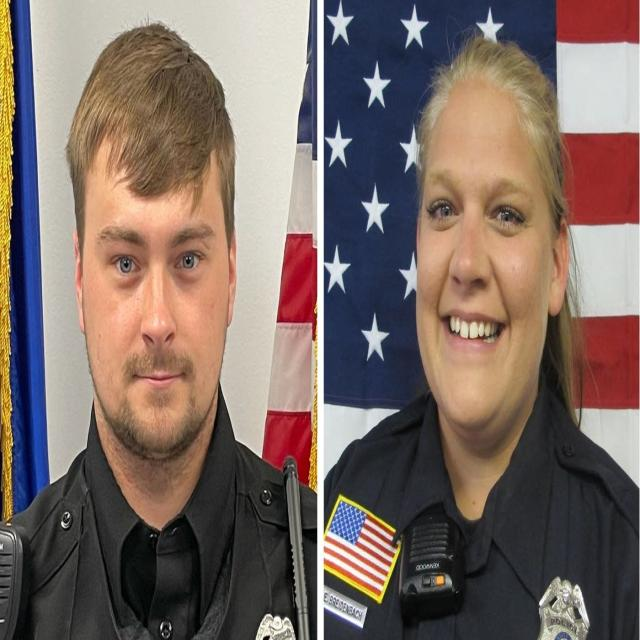police: (0, 32, 330, 640), (335, 18, 634, 640)
